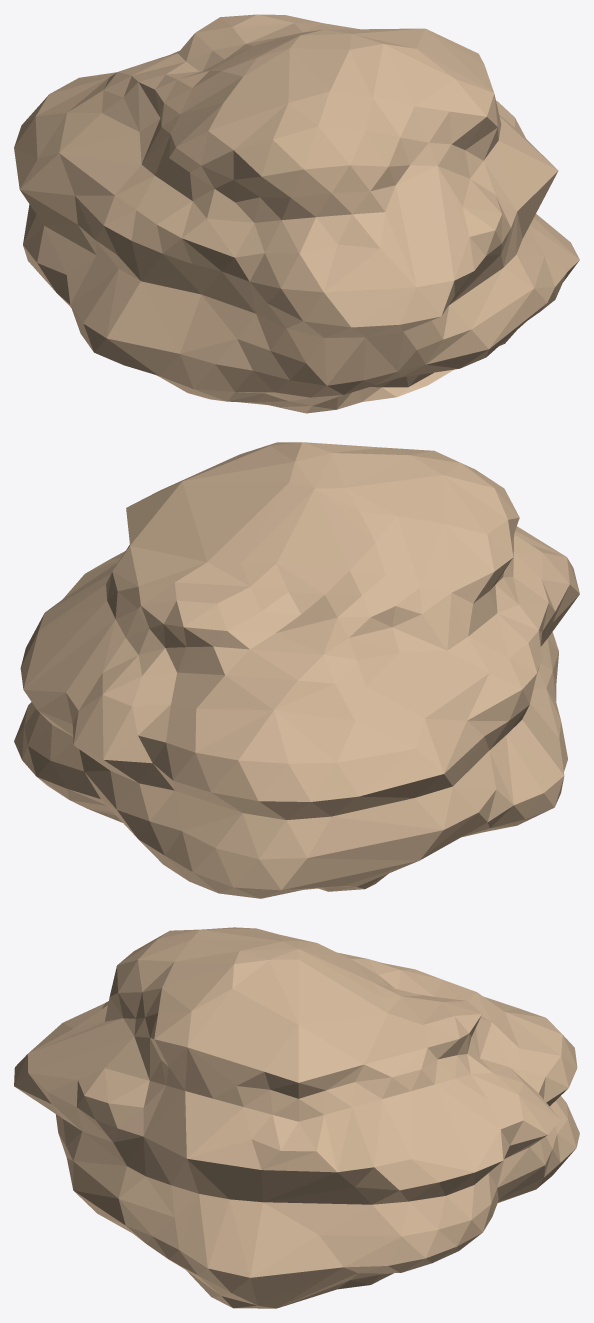
File: SM_DST_Rock_Boulder_C_Frac.fbx
The picture shows the model from 3 angles, top to bottom: view 1: azimuth 30°, elevation 25°; view 2: azimuth 150°, elevation 25°; view 3: azimuth 270°, elevation 25°; orthographic projection. The views are drawn at different scales.
Parts seen in each view (by area): view 1: SM_DST_Rock_Boulder_C_p00, SM_DST_Rock_Boulder_C_p04, SM_DST_Rock_Boulder_C_p03, SM_DST_Rock_Boulder_C_p06, SM_DST_Rock_Boulder_C_p02, SM_DST_Rock_Boulder_C_p01; view 2: SM_DST_Rock_Boulder_C_p04, SM_DST_Rock_Boulder_C_p00, SM_DST_Rock_Boulder_C_p05, SM_DST_Rock_Boulder_C_p06, SM_DST_Rock_Boulder_C_p03; view 3: SM_DST_Rock_Boulder_C_p05, SM_DST_Rock_Boulder_C_p00, SM_DST_Rock_Boulder_C_p02, SM_DST_Rock_Boulder_C_p04, SM_DST_Rock_Boulder_C_p03.
Part boxes in pixels (left/top/right/bottom): SM_DST_Rock_Boulder_C_p00: left=229, top=28, right=512, bottom=352; SM_DST_Rock_Boulder_C_p04: left=14, top=14, right=335, bottom=341; SM_DST_Rock_Boulder_C_p03: left=195, top=118, right=466, bottom=399; SM_DST_Rock_Boulder_C_p06: left=87, top=152, right=322, bottom=399; SM_DST_Rock_Boulder_C_p02: left=412, top=115, right=579, bottom=389; SM_DST_Rock_Boulder_C_p01: left=87, top=340, right=415, bottom=413; SM_DST_Rock_Boulder_C_p04: left=63, top=502, right=548, bottom=898; SM_DST_Rock_Boulder_C_p00: left=157, top=442, right=498, bottom=546; SM_DST_Rock_Boulder_C_p05: left=14, top=489, right=189, bottom=822; SM_DST_Rock_Boulder_C_p06: left=491, top=553, right=577, bottom=808; SM_DST_Rock_Boulder_C_p03: left=467, top=485, right=579, bottom=642; SM_DST_Rock_Boulder_C_p05: left=241, top=1024, right=507, bottom=1308; SM_DST_Rock_Boulder_C_p00: left=23, top=928, right=369, bottom=1176; SM_DST_Rock_Boulder_C_p02: left=71, top=1083, right=293, bottom=1308; SM_DST_Rock_Boulder_C_p04: left=233, top=927, right=579, bottom=1202; SM_DST_Rock_Boulder_C_p03: left=14, top=927, right=232, bottom=1177.
Size of the model in its own units: 1.93 by 1.27 by 2.28.
